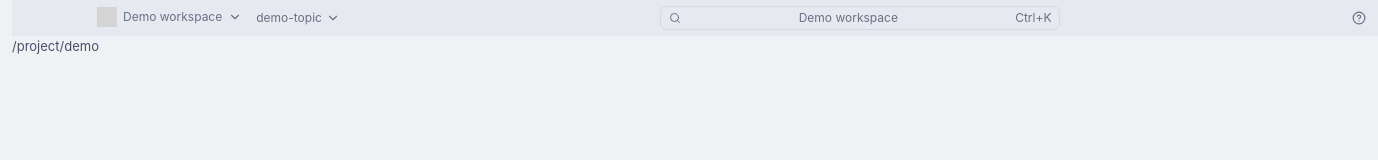
Scenario: lists projects in the title bar and switches from a child checkout to another project
Click the dropdown named "切换项目": {"x": 170, "y": 16} [92, 4, 247, 28]
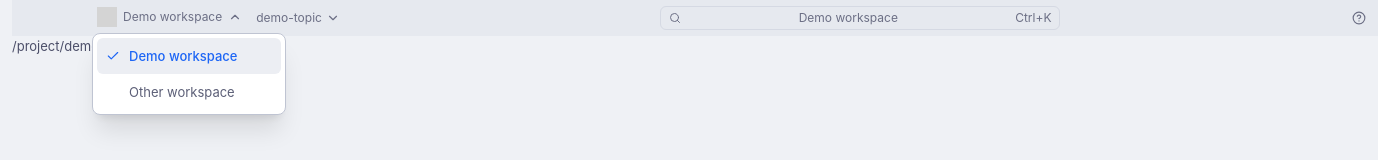
Click the option "Other workspace": {"x": 171, "y": 92} [97, 74, 246, 110]
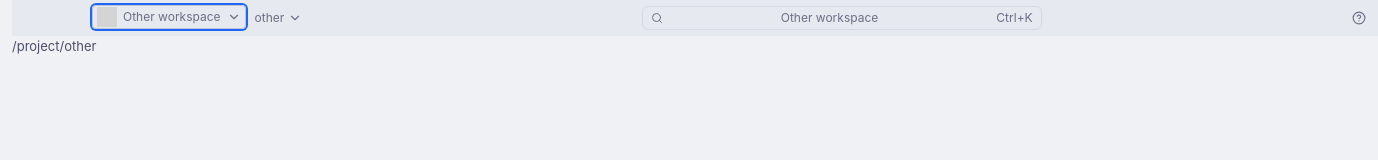
Result: the dropdown named "切换项目" reads "Other workspace" at [92, 4, 246, 28]
Result: the text "/project/other" is shown at [12, 38, 96, 54]
